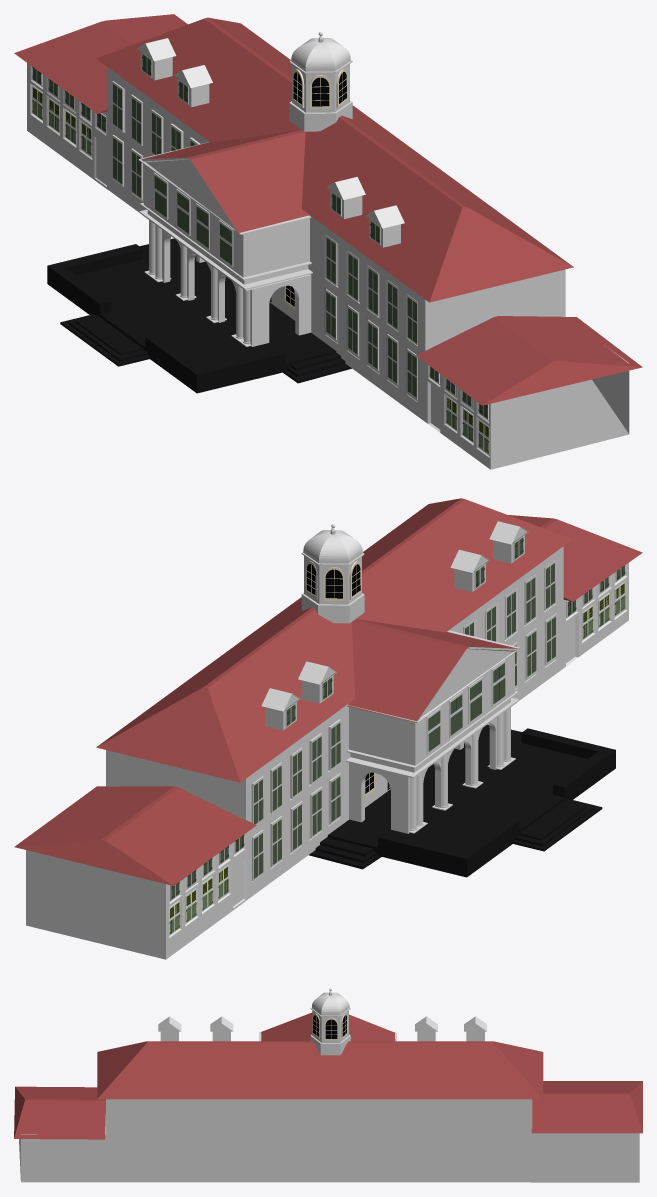
The model's file is MuseumSejarah.fbx.
The picture shows the model from 3 angles, top to bottom: view 1: azimuth 30°, elevation 25°; view 2: azimuth 150°, elevation 25°; view 3: azimuth 270°, elevation 25°; orthographic projection. The views are drawn at different scales.
Visible parts, largest first — view 1: Cube.046, Cube.012, Cube.001, Cube.052, Cube.002, Cube.050, Plane.012, Cube.051, Cube, Cube.020, Cylinder, Cube.025 (+6 smaller); view 2: Cube.046, Cube.012, Cube.001, Cube.051, Cube, Cube.050, Plane.012, Cube.052, Cylinder, Cube.020, Cube.002, Cube.047 (+6 smaller); view 3: Cube.001, Cube.046, Cube.051, Cube, Cube.052, Cube.002, Cube.050, Cylinder, Cube.048, Cube.049, Cube.025, Cube.047 (+1 smaller).
Part boxes in pixels (x1,y1,x2,y2): Cube.046: [96, 17, 573, 302]; Cube.012: [47, 238, 351, 393]; Cube.001: [107, 67, 565, 421]; Cube.052: [416, 316, 642, 405]; Cube.002: [424, 316, 629, 469]; Cube.050: [141, 129, 308, 234]; Plane.012: [138, 142, 312, 290]; Cube.051: [14, 14, 187, 113]; Cube: [27, 63, 107, 189]; Cube.020: [149, 220, 311, 346]; Cylinder: [289, 32, 352, 131]; Cube.025: [137, 38, 176, 80]; Cube.046: [96, 498, 572, 782]; Cube.012: [309, 724, 615, 877]; Cube.001: [106, 546, 563, 900]; Cube.051: [14, 786, 256, 885]; Cube: [26, 833, 246, 959]; Cube.050: [347, 619, 519, 722]; Plane.012: [346, 630, 519, 778]; Cube.052: [508, 515, 642, 601]; Cylinder: [301, 524, 364, 623]; Cube.020: [349, 712, 504, 833]; Cube.002: [562, 563, 628, 668]; Cube.047: [298, 661, 336, 703]; Cube.001: [106, 1099, 532, 1182]; Cube.046: [97, 1041, 543, 1099]; Cube.051: [531, 1081, 642, 1133]; Cube: [531, 1133, 639, 1182]; Cube.052: [14, 1086, 105, 1139]; Cube.002: [19, 1114, 107, 1182]; Cube.050: [261, 1012, 396, 1041]; Cylinder: [310, 988, 350, 1055]; Cube.048: [210, 1016, 233, 1041]; Cube.049: [158, 1016, 181, 1041]; Cube.025: [464, 1016, 486, 1041]; Cube.047: [415, 1016, 437, 1041].
Size of the model in its own units: 18049 by 13622 by 45423.
